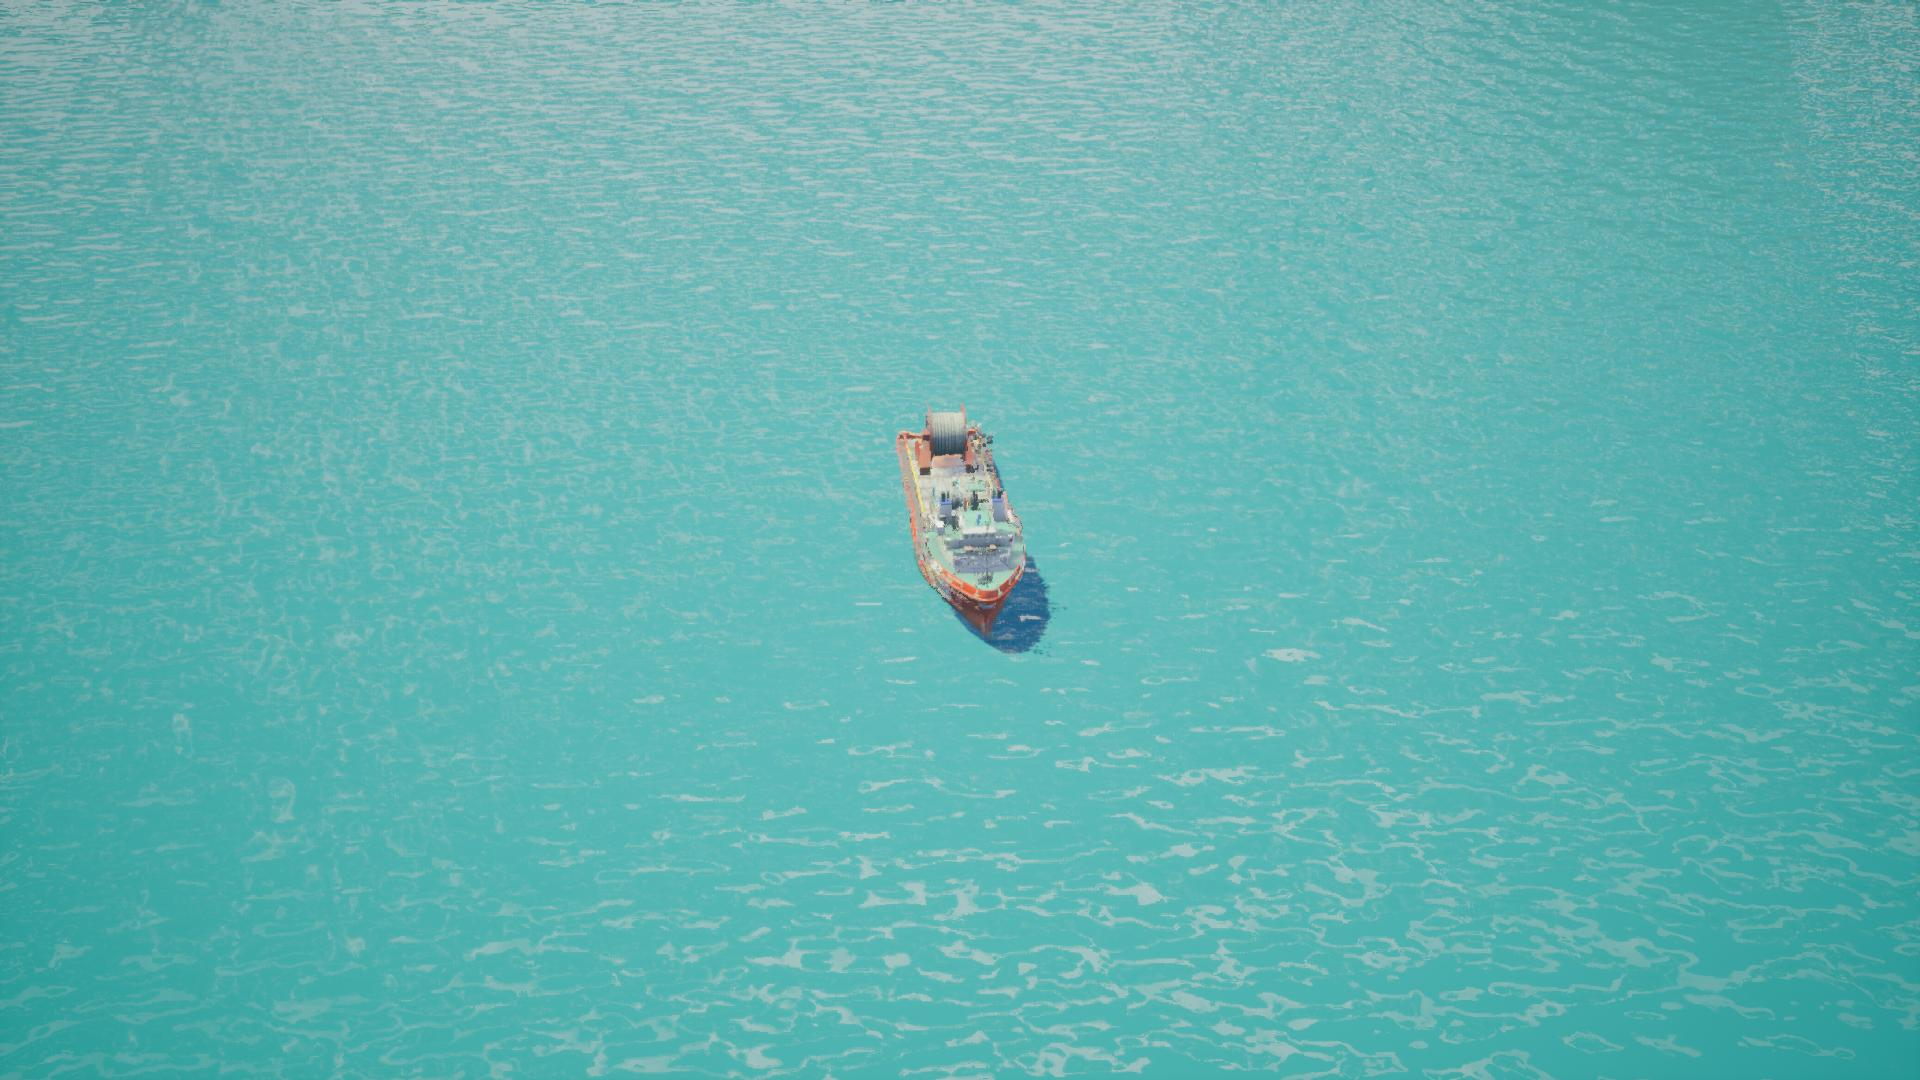Tug Boat: (789, 360, 1116, 653)
